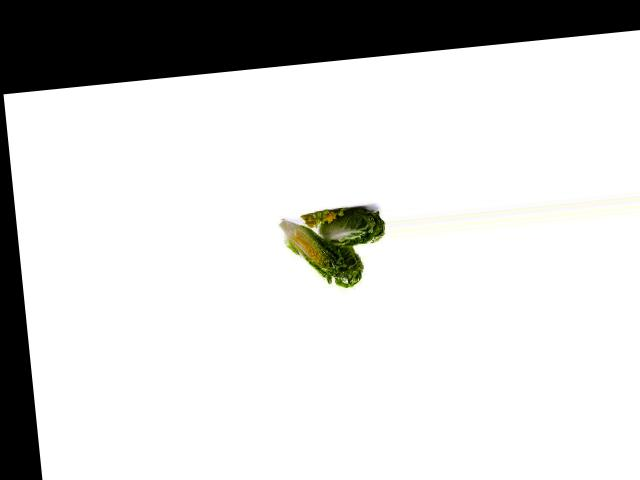lettuce: (308, 201, 384, 252)
